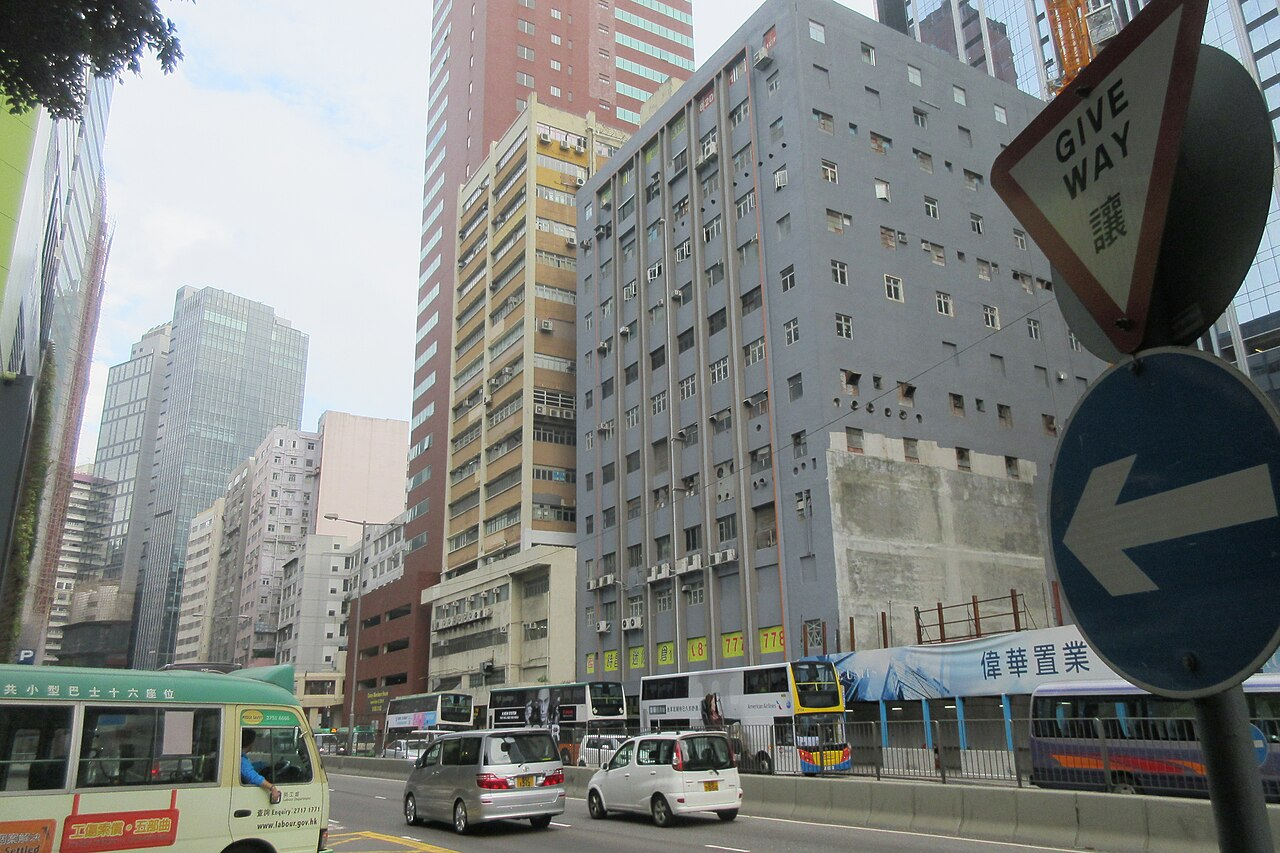Give Way: (978, 0, 1218, 351)
Turn Left: (1046, 353, 1280, 683)
